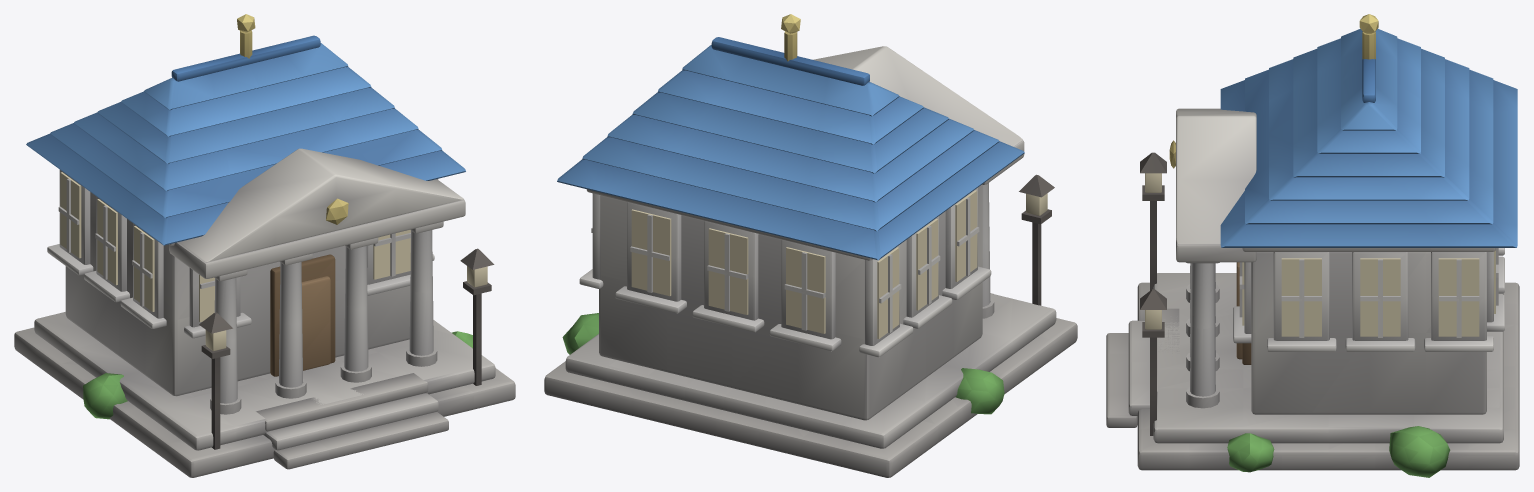
File: library.glb
The picture shows the model from 3 angles, left to right: view 1: azimuth 30°, elevation 25°; view 2: azimuth 150°, elevation 25°; view 3: azimuth 270°, elevation 25°; orthographic projection. The views are drawn at different scales.
Parts seen in each view (by area): view 1: main, glow; view 2: main, glow; view 3: main, glow.
Part boxes in pixels (bbox=[...]): main: bbox=[14, 14, 515, 477]; glow: bbox=[60, 172, 487, 351]; main: bbox=[544, 14, 1077, 477]; glow: bbox=[631, 190, 1047, 338]; main: bbox=[1106, 14, 1519, 477]; glow: bbox=[1145, 173, 1495, 336].
Bounding box in the file's own units: 2.01 × 1.85 × 1.84.
